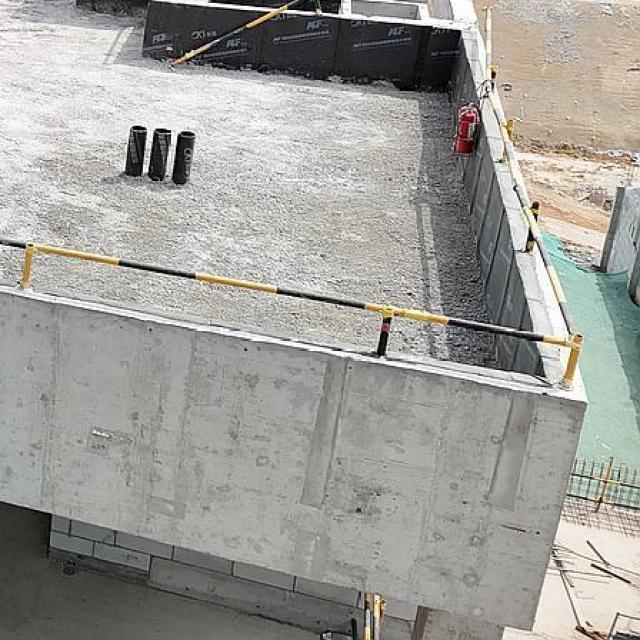edge_guardrail: (0, 5, 584, 388), (169, 0, 304, 67), (363, 591, 387, 640)
